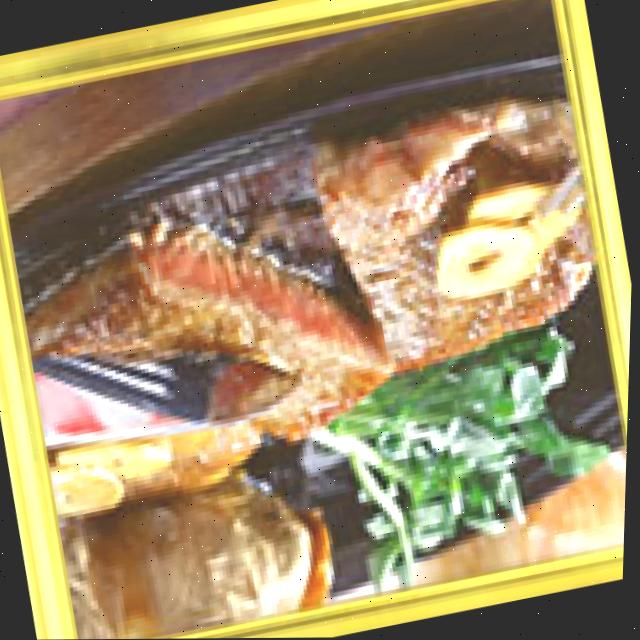牛肉菜式: (10, 69, 620, 504)
